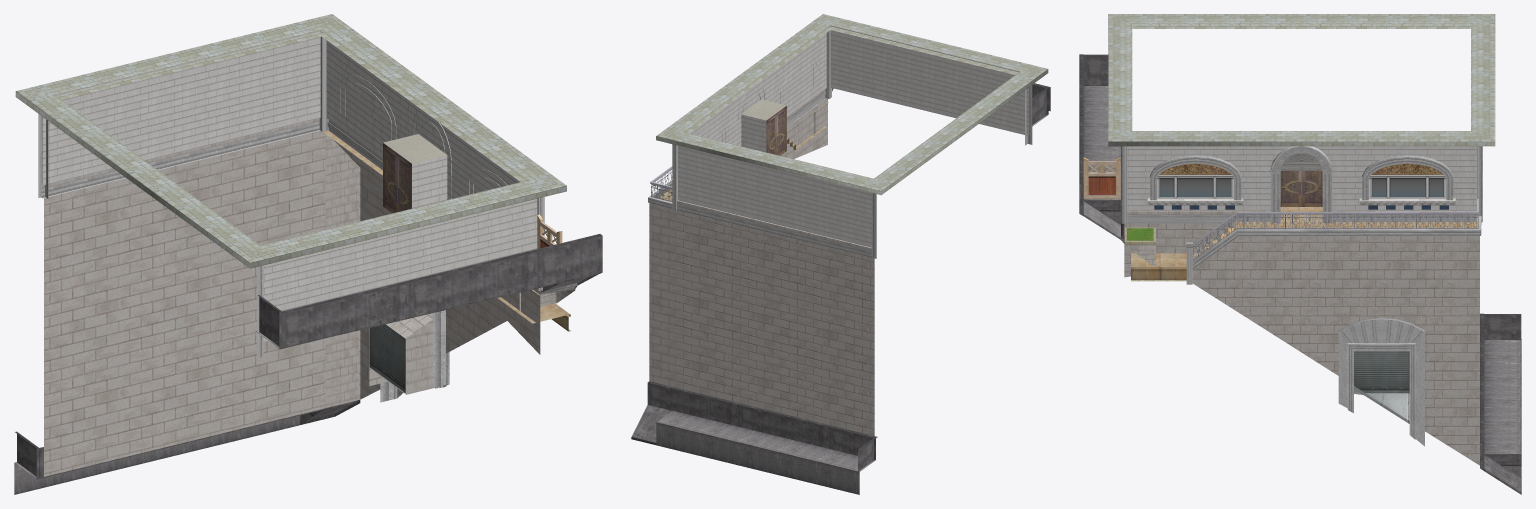
Rendered from BuilB_Base_35L.fbx.
The picture shows the model from 3 angles, left to right: view 1: azimuth 30°, elevation 25°; view 2: azimuth 150°, elevation 25°; view 3: azimuth 270°, elevation 25°; orthographic projection. The views are drawn at different scales.
Parts seen in each view (by area): view 1: ct2_01_m1_yc1_builbaseB35L_16; view 2: ct2_01_m1_yc1_builbaseB35L_16; view 3: ct2_01_m1_yc1_builbaseB35L_16.
Boxes of the visible parts, x1,y1,x2,y2 form: ct2_01_m1_yc1_builbaseB35L_16: (14, 14, 602, 494); ct2_01_m1_yc1_builbaseB35L_16: (631, 14, 1050, 494); ct2_01_m1_yc1_builbaseB35L_16: (1079, 14, 1521, 494).
Bounding box in the file's own units: 2216 × 2598 × 3008.
